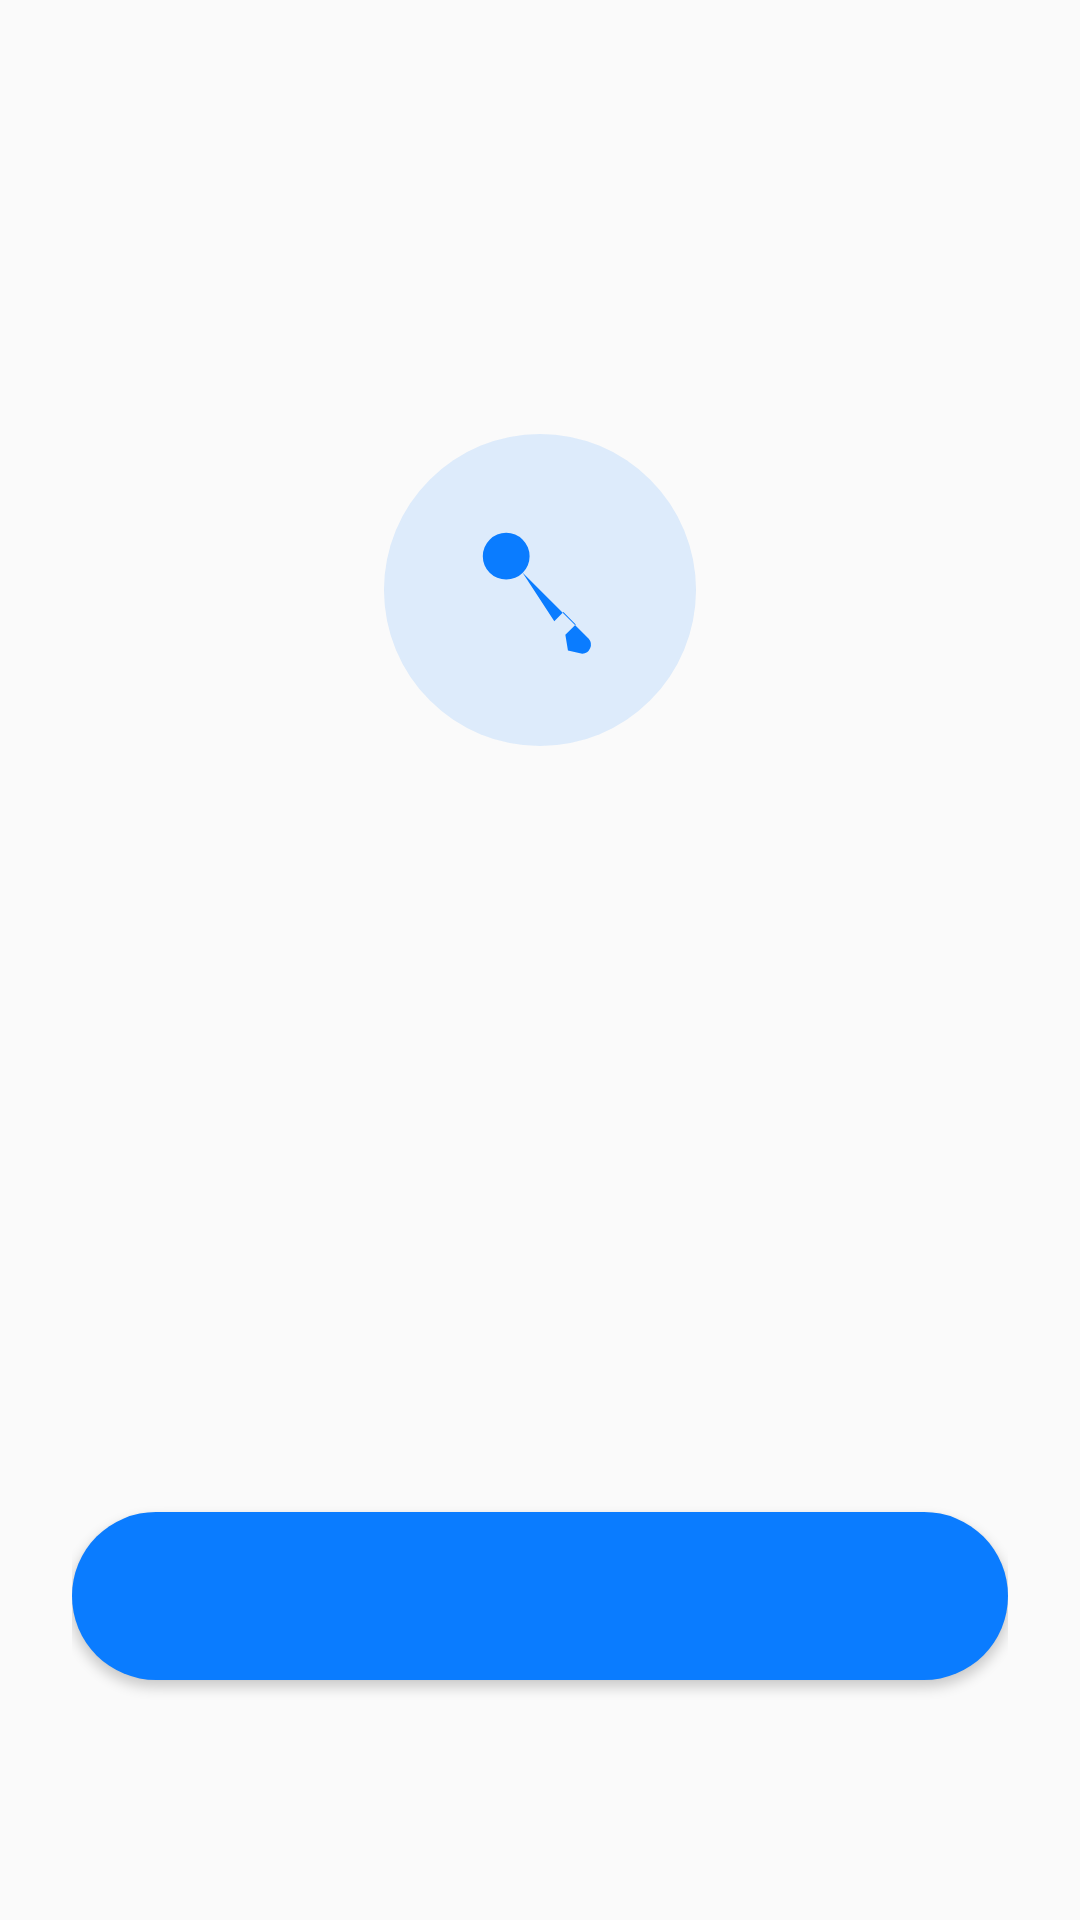

Point at icon controls on the screen. Image size 1080×1920, points as (x=x, y=y).
key: (x=540, y=590)
